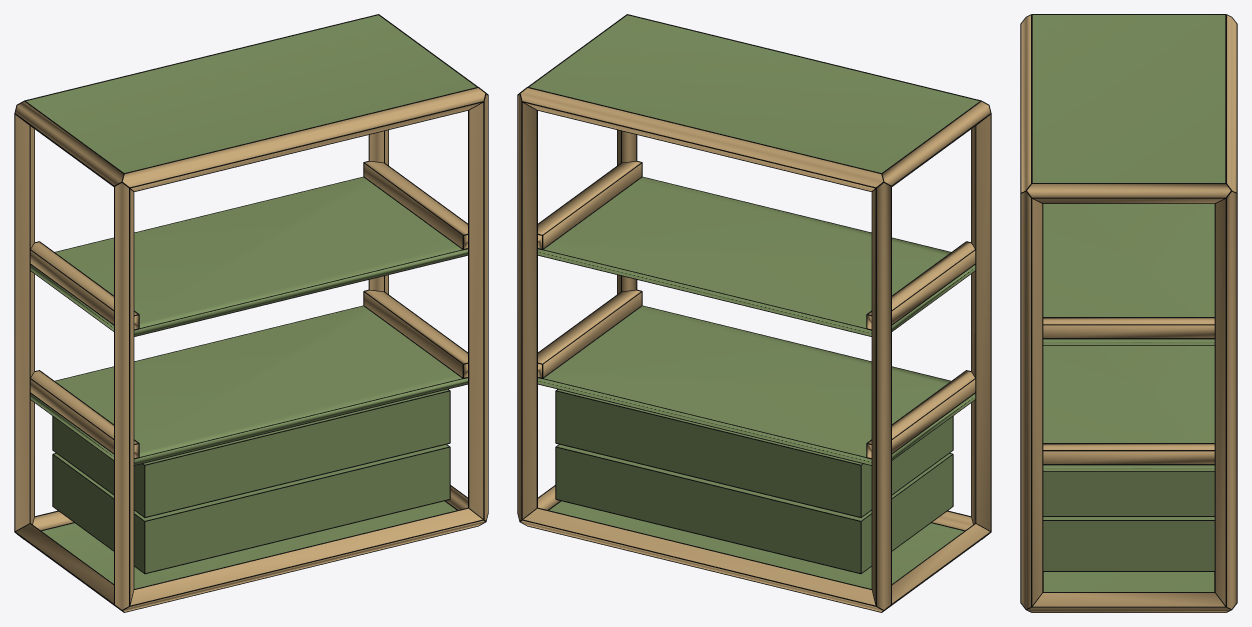
The model's file is 006-commode-grande.glb.
3 renders of one model, left to right at view 1: azimuth 30°, elevation 25°; view 2: azimuth 150°, elevation 25°; view 3: azimuth 270°, elevation 25°, orthographic. The views are drawn at different scales.
Parts seen in each view (by area): view 1: panneau-dessus_exterieur, tablette-plate-mod-0, tablette-plate-mod-1, mod-drawer-0, mod-drawer-1, arete-Z2, arete-Z1, arete-Z0, arete-X2, arete-X0, panneau-dessous, tablette-traverse-right-mod-1 (+17 smaller); view 2: panneau-dessus_exterieur, tablette-plate-mod-0, tablette-plate-mod-1, mod-drawer-0, mod-drawer-1, arete-Z0, arete-Z3, arete-Z2, arete-X3, arete-X1, panneau-dessous, tablette-traverse-right-mod-1 (+18 smaller); view 3: panneau-dessus_exterieur, tablette-plate-mod-1, tablette-plate-mod-0, mod-drawer-0, arete-Z1, arete-Z3, mod-drawer-1, arete-Y3, arete-Y1, panneau-dessous, tablette-traverse-right-mod-1, tablette-traverse-right-mod-0 (+12 smaller).
Boxes of the visible parts, x1=… form: panneau-dessus_exterieur: x1=26, y1=15, x2=476, y2=172; tablette-plate-mod-0: x1=30, y1=306, x2=467, y2=464; tablette-plate-mod-1: x1=30, y1=177, x2=467, y2=335; mod-drawer-0: x1=53, y1=444, x2=449, y2=572; mod-drawer-1: x1=53, y1=389, x2=449, y2=516; arete-Z2: x1=15, y1=115, x2=34, y2=530; arete-Z1: x1=469, y1=94, x2=487, y2=520; arete-Z0: x1=115, y1=183, x2=133, y2=609; arete-X2: x1=122, y1=88, x2=485, y2=191; arete-X0: x1=123, y1=508, x2=484, y2=611; panneau-dessous: x1=42, y1=501, x2=456, y2=588; tablette-traverse-right-mod-1: x1=364, y1=161, x2=467, y2=248; panneau-dessus_exterieur: x1=529, y1=15, x2=979, y2=172; tablette-plate-mod-0: x1=538, y1=306, x2=975, y2=464; tablette-plate-mod-1: x1=538, y1=177, x2=975, y2=335; mod-drawer-0: x1=556, y1=444, x2=952, y2=572; mod-drawer-1: x1=556, y1=389, x2=952, y2=516; arete-Z0: x1=971, y1=115, x2=990, y2=530; arete-Z3: x1=518, y1=94, x2=536, y2=520; arete-Z2: x1=872, y1=183, x2=890, y2=609; arete-X3: x1=520, y1=88, x2=883, y2=191; arete-X1: x1=521, y1=508, x2=882, y2=611; panneau-dessous: x1=549, y1=501, x2=963, y2=588; tablette-traverse-right-mod-1: x1=538, y1=161, x2=641, y2=248; panneau-dessus_exterieur: x1=1032, y1=15, x2=1225, y2=182; tablette-plate-mod-1: x1=1043, y1=204, x2=1214, y2=344; tablette-plate-mod-0: x1=1043, y1=345, x2=1214, y2=470; mod-drawer-0: x1=1043, y1=517, x2=1214, y2=570; arete-Z1: x1=1021, y1=191, x2=1042, y2=608; arete-Z3: x1=1215, y1=191, x2=1236, y2=608; mod-drawer-1: x1=1043, y1=471, x2=1214, y2=515; arete-Y3: x1=1027, y1=184, x2=1230, y2=203; arete-Y1: x1=1027, y1=593, x2=1230, y2=612; panneau-dessous: x1=1043, y1=572, x2=1214, y2=591; tablette-traverse-right-mod-1: x1=1043, y1=318, x2=1214, y2=337; tablette-traverse-right-mod-0: x1=1043, y1=444, x2=1214, y2=463.
Bounding box in the file's own units: 0.8238 × 0.9238 × 0.4238.
